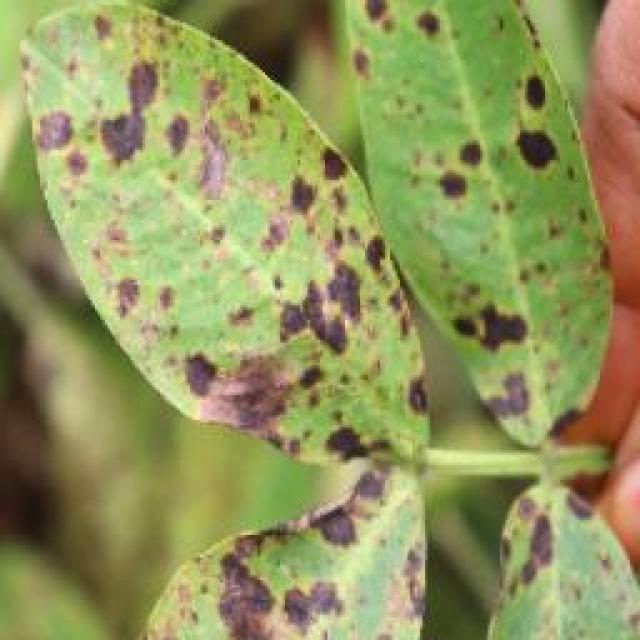Yellowish: (13, 21, 630, 640)
